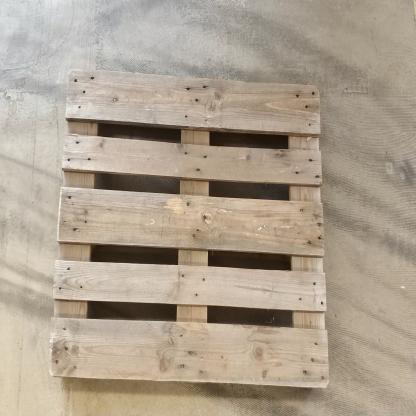BoxFace: (42, 62, 331, 392)
